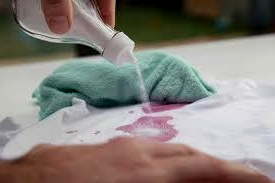wine: (148, 92, 182, 112), (139, 112, 173, 126), (162, 130, 174, 141), (117, 123, 129, 133)
